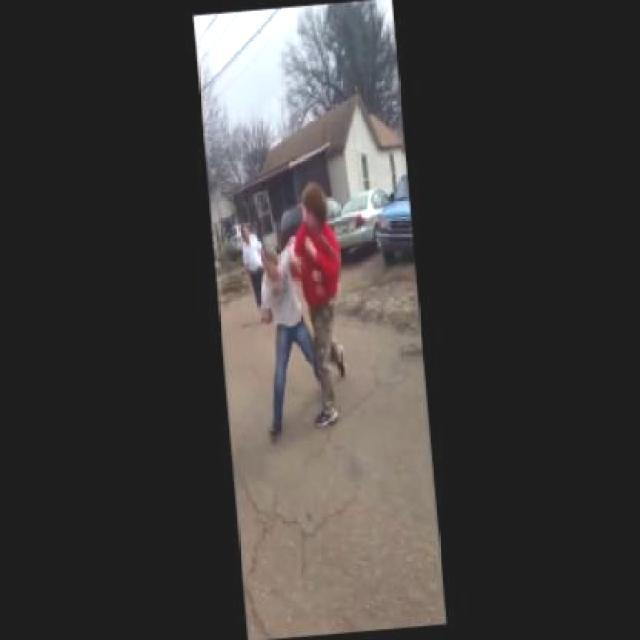fight: (248, 182, 347, 342)
non-fight: (238, 218, 264, 276)
